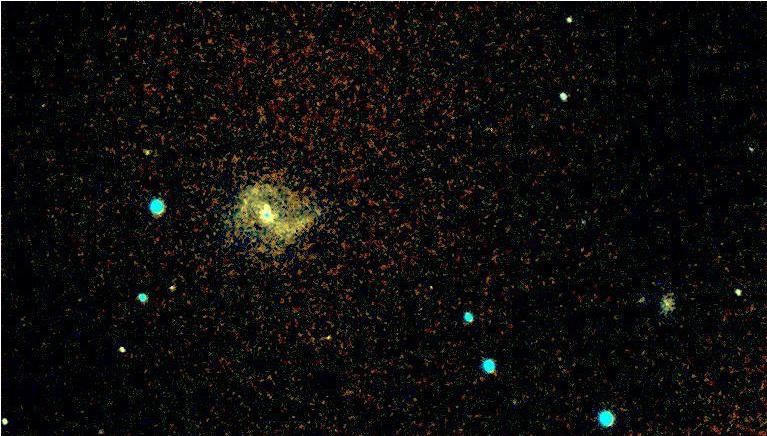star: (312, 320, 342, 350)
